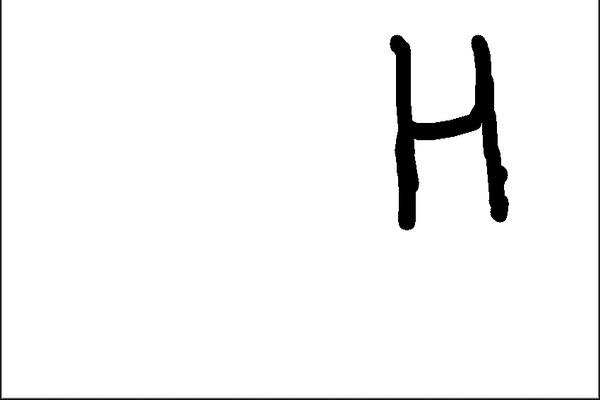H: (376, 21, 512, 241)
